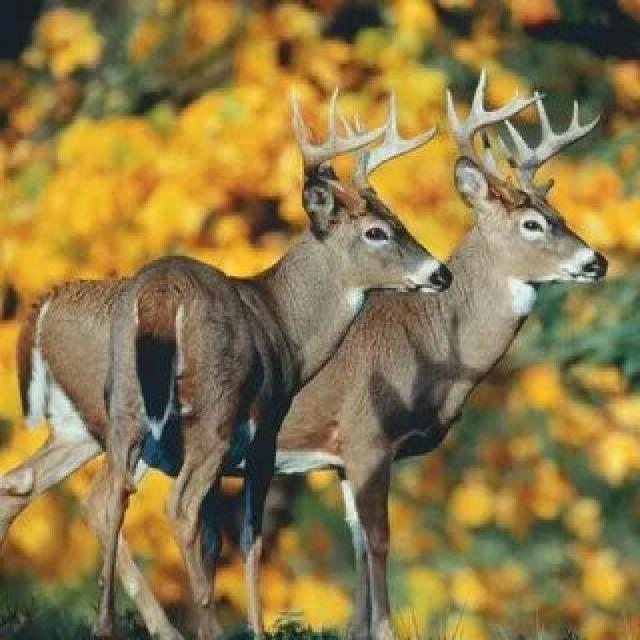deer: (42, 65, 595, 532), (54, 125, 446, 572)
